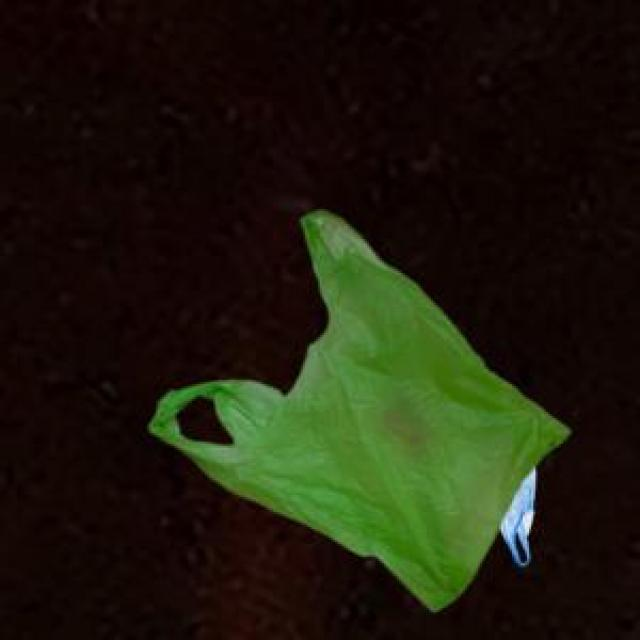waste: (174, 202, 574, 609)
